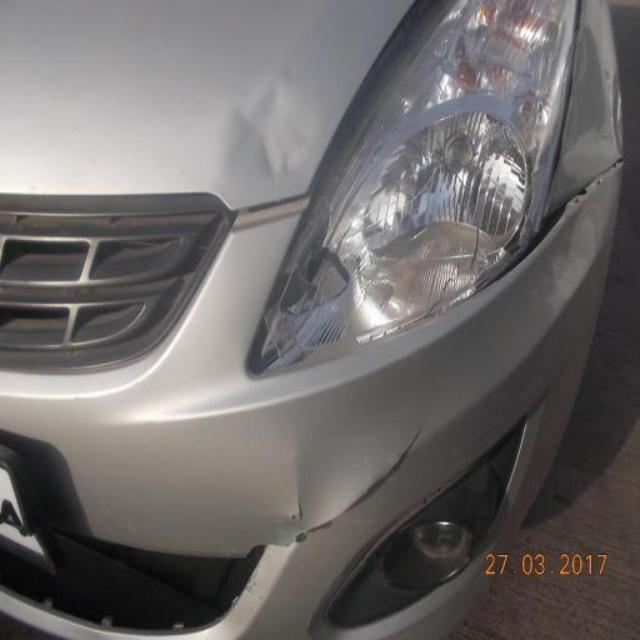crack: (289, 426, 431, 558), (277, 454, 310, 528)
dent: (541, 18, 623, 263), (224, 79, 341, 187)
